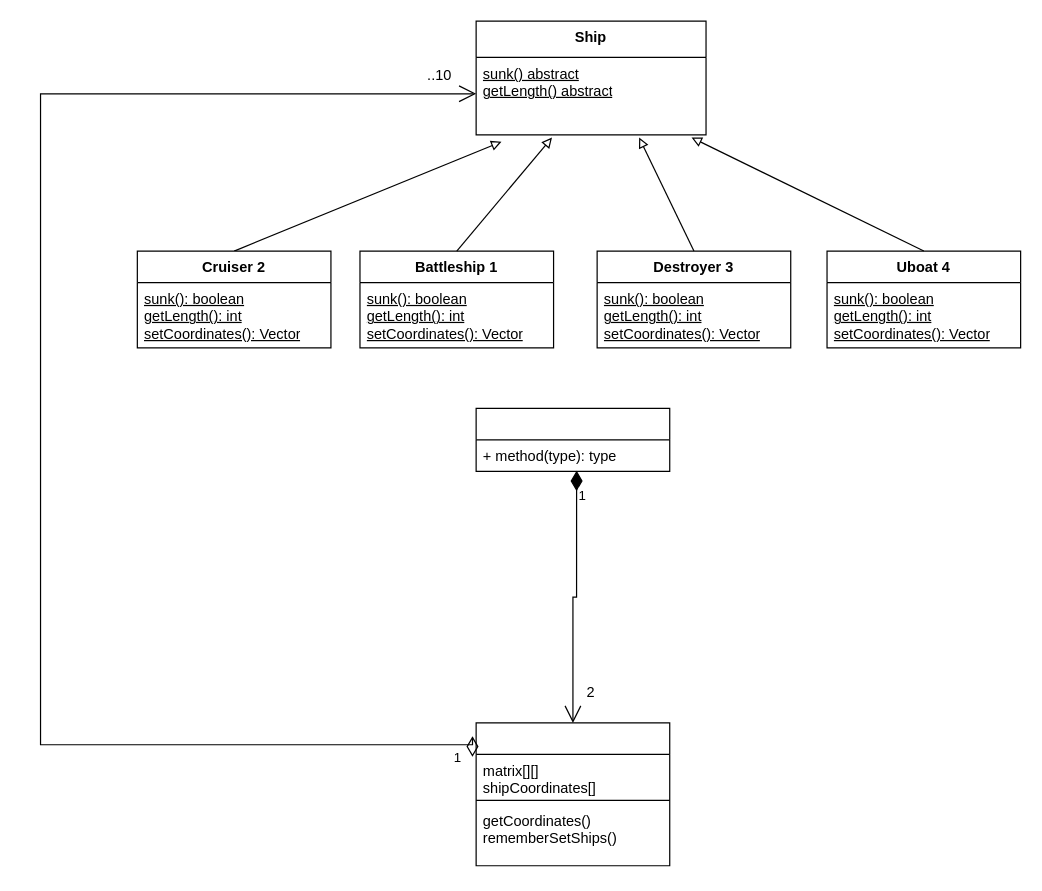
The diagram is 1042 pixels wide and 891 high, and some of its shapes have lost their labels. The shapes that lost their labels are listed below. From the top down, each one's box as (x1, y1, x2, y2) in pixels, then its label:
(475, 407, 670, 471): Playfield
(475, 722, 670, 866): Map
